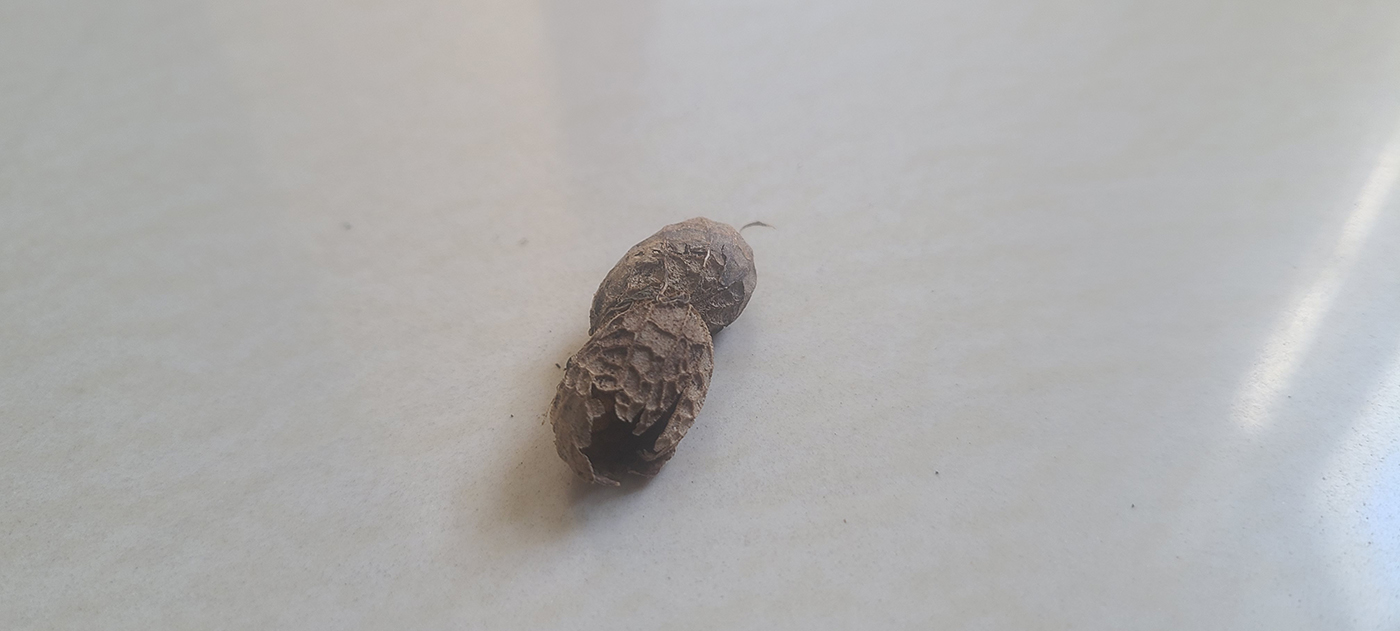l: (554, 215, 759, 484)
